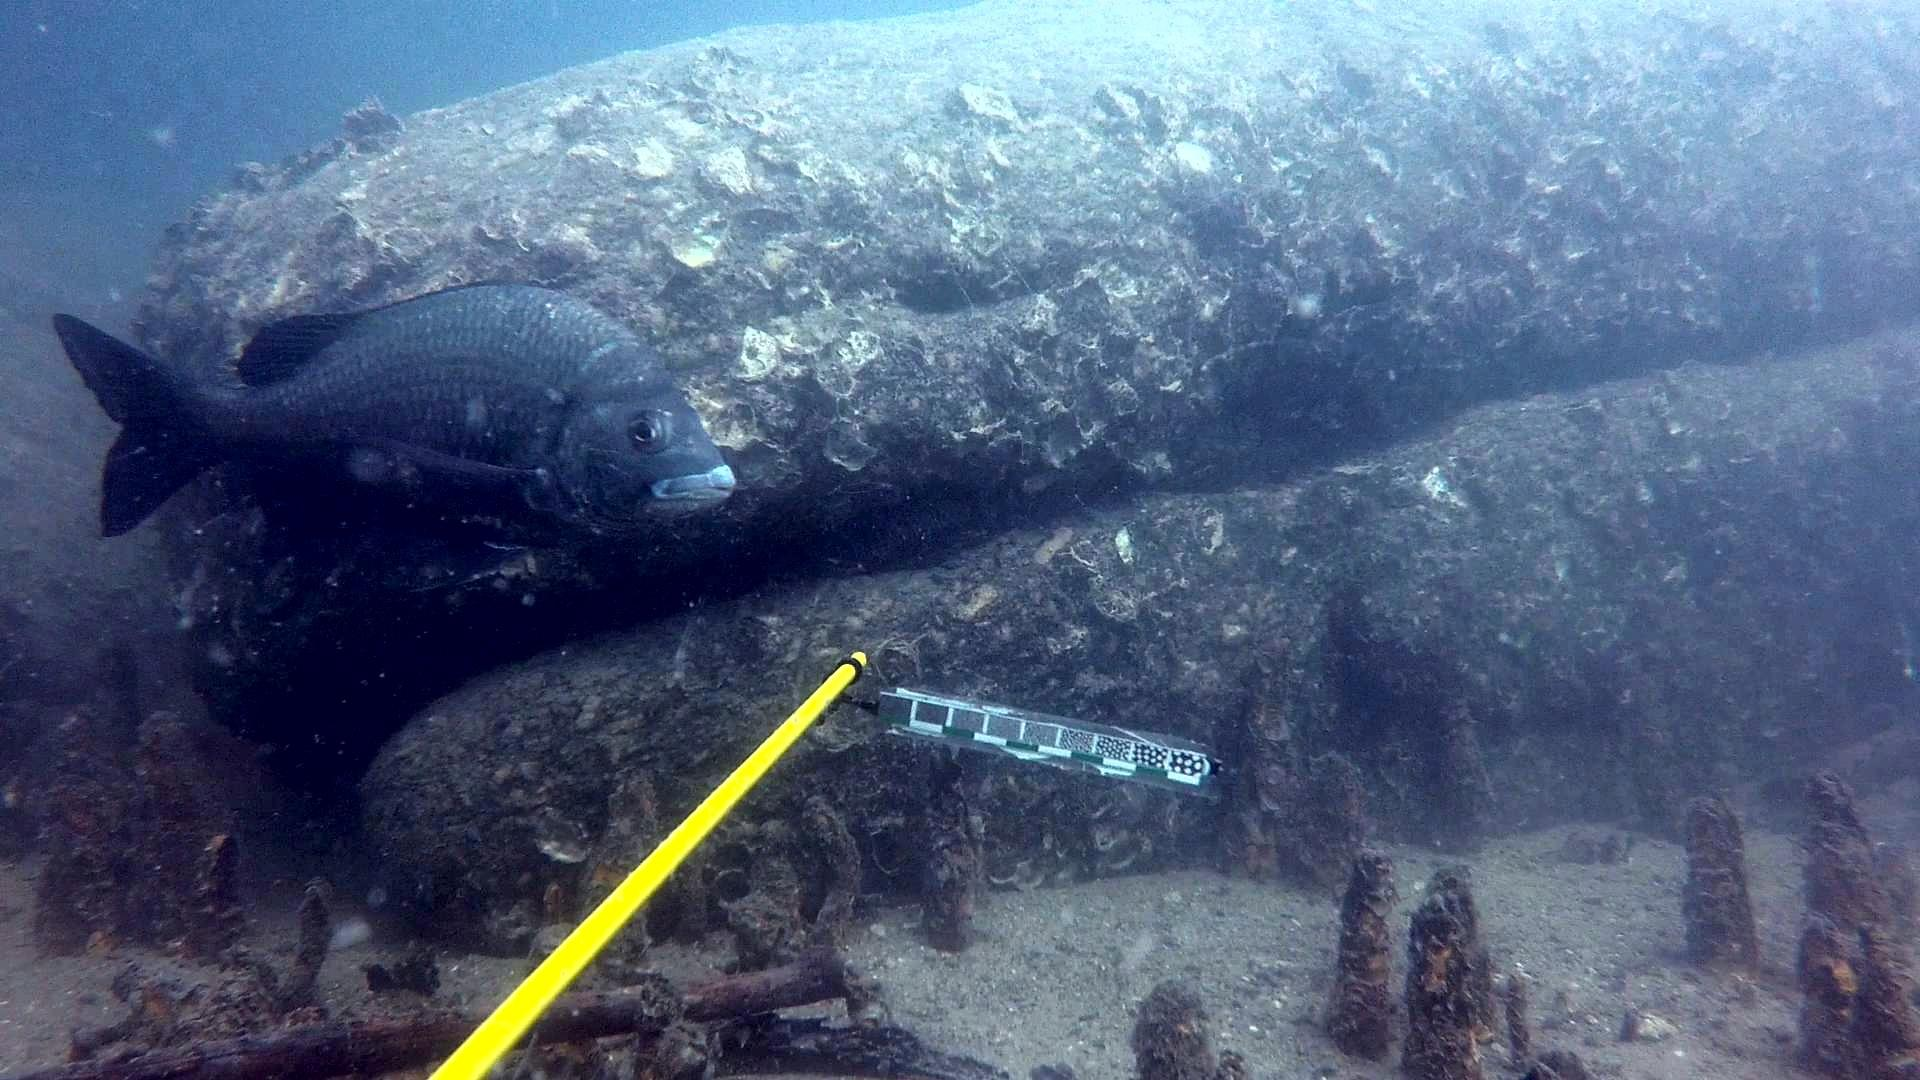acanthopagrus palmaris: (44, 273, 748, 571)
